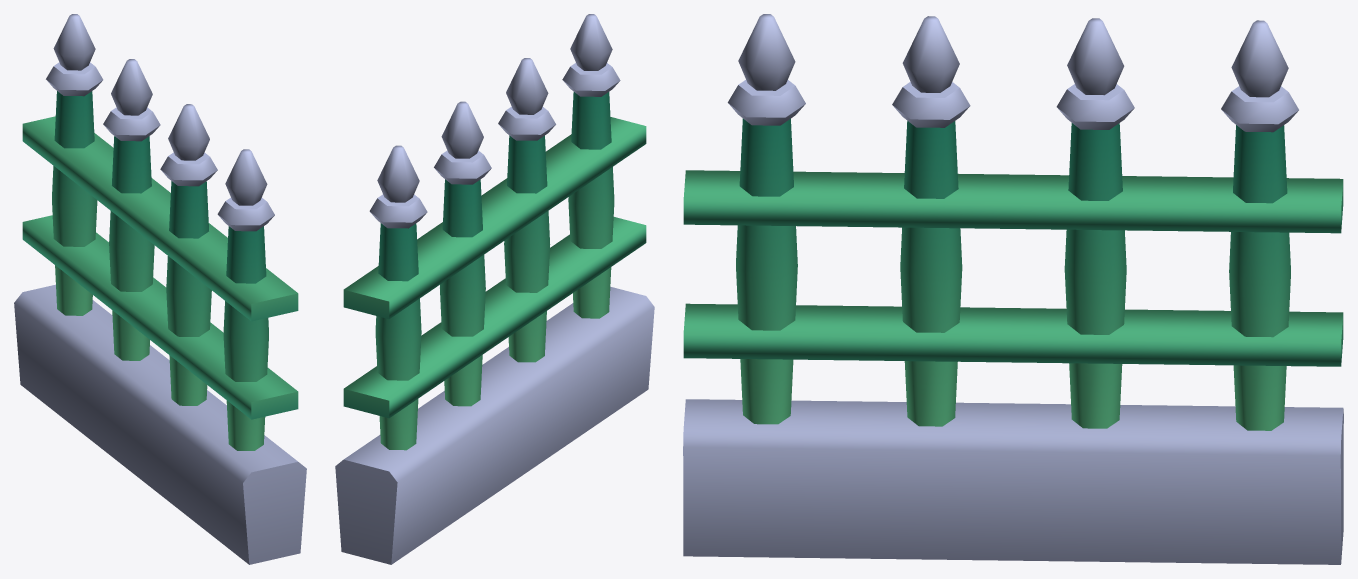
File: iron-fence-border.094_lev2.glb
3 renders of one model, left to right at view 1: azimuth 30°, elevation 25°; view 2: azimuth 150°, elevation 25°; view 3: azimuth 270°, elevation 25°, orthographic. The views are drawn at different scales.
Visible parts, largest first — view 1: iron-fence-border.094_lev2; view 2: iron-fence-border.094_lev2; view 3: iron-fence-border.094_lev2.
Boxes of the visible parts, <box> form: iron-fence-border.094_lev2: <box>14,14,306,564</box>; iron-fence-border.094_lev2: <box>335,14,654,564</box>; iron-fence-border.094_lev2: <box>683,14,1343,564</box>.
Bounding box in the file's own units: 1.45 × 7.03 × 8.03.
Materials: 1 (1 with a texture image).
